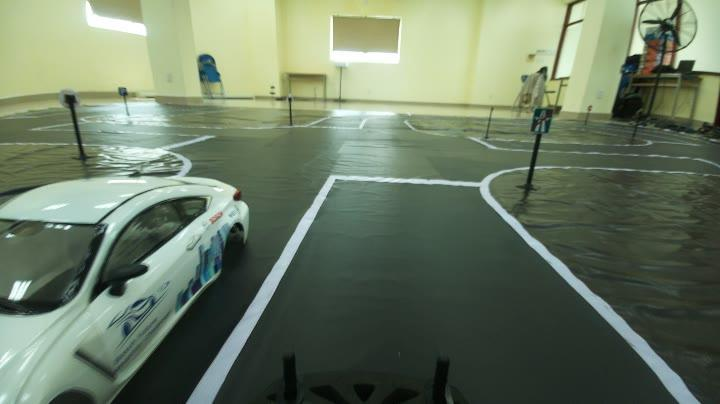car: (9, 152, 252, 397)
highway_exit: (532, 102, 560, 141)
